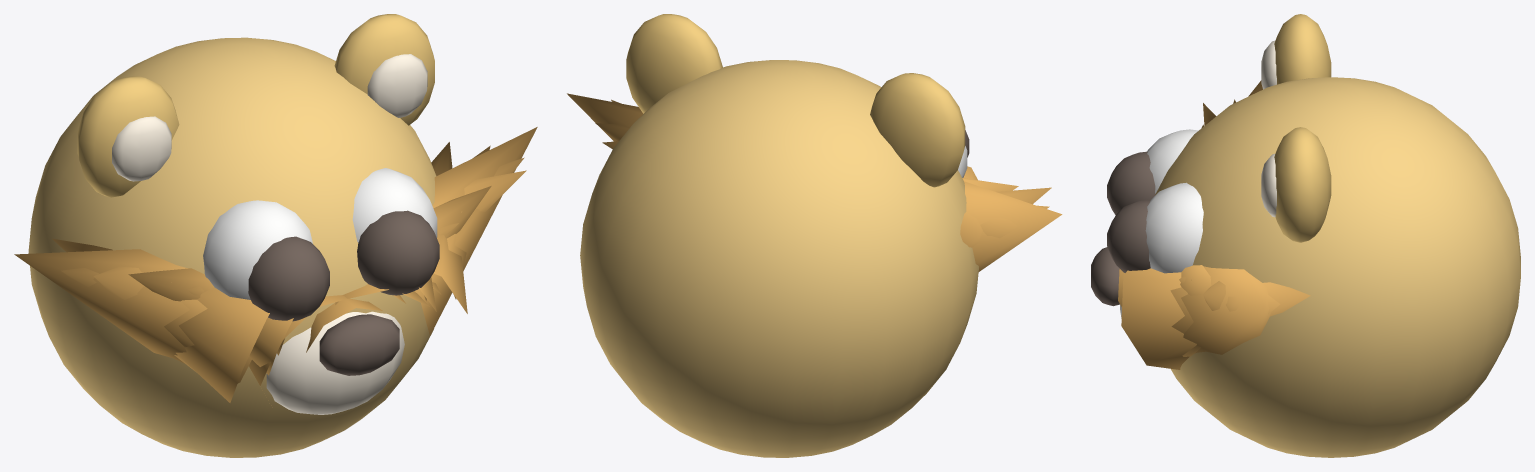
File: lion_ball.glb
The picture shows the model from 3 angles, left to right: view 1: azimuth 30°, elevation 25°; view 2: azimuth 150°, elevation 25°; view 3: azimuth 270°, elevation 25°; orthographic projection. The views are drawn at different scales.
Parts seen in each view (by area): view 1: BallBody, Tuft0_10, Muzzle, Tuft0_12, EarOuterL, EyeWhiteL, PupilR, PupilL, EarOuterR, Tuft0_00, Nose, EyeWhiteR (+11 smaller); view 2: BallBody, EarOuterL, EarOuterR, Tuft0_10, Tuft0_00, Tuft0_12, Tuft0_11; view 3: BallBody, Tuft0_18, EarOuterR, Tuft0_00, EyeWhiteR, EarOuterL, PupilR, PupilL, EyeWhiteL, Nose, EarInnerR, Tuft1_00 (+3 smaller).
Part boxes in pixels (left/top/right/bottom): BallBody: left=28, top=37, right=436, bottom=457; Tuft0_10: left=14, top=249, right=251, bottom=383; Muzzle: left=266, top=311, right=404, bottom=414; Tuft0_12: left=52, top=238, right=269, bottom=402; EarOuterL: left=77, top=76, right=179, bottom=197; EyeWhiteL: left=203, top=200, right=312, bottom=299; PupilR: left=357, top=210, right=439, bottom=295; PupilL: left=248, top=236, right=329, bottom=321; EarOuterR: left=334, top=14, right=434, bottom=125; Tuft0_00: left=415, top=127, right=537, bottom=335; Nose: left=319, top=314, right=399, bottom=375; EyeWhiteR: left=352, top=168, right=437, bottom=242; BallBody: left=580, top=60, right=978, bottom=457; EarOuterL: left=870, top=73, right=965, bottom=187; EarOuterR: left=626, top=14, right=722, bottom=113; Tuft0_10: left=964, top=181, right=1062, bottom=271; Tuft0_00: left=567, top=93, right=643, bottom=141; Tuft0_12: left=960, top=166, right=982, bottom=247; Tuft0_11: left=980, top=218, right=1017, bottom=238; BallBody: left=1155, top=77, right=1520, bottom=457; Tuft0_18: left=1121, top=268, right=1310, bottom=369; EarOuterR: left=1274, top=127, right=1331, bottom=242; Tuft0_00: left=1181, top=266, right=1271, bottom=354; EyeWhiteR: left=1145, top=182, right=1203, bottom=273; EarOuterL: left=1274, top=14, right=1331, bottom=84; PupilR: left=1107, top=200, right=1150, bottom=272; PupilL: left=1107, top=151, right=1155, bottom=215; EyeWhiteL: left=1147, top=129, right=1198, bottom=193; Nose: left=1091, top=247, right=1119, bottom=306; EarInnerR: left=1261, top=154, right=1276, bottom=217; Tuft1_00: left=1180, top=265, right=1211, bottom=295.
Bounding box in the file's own units: 0.7167 × 0.5282 × 0.5624.
